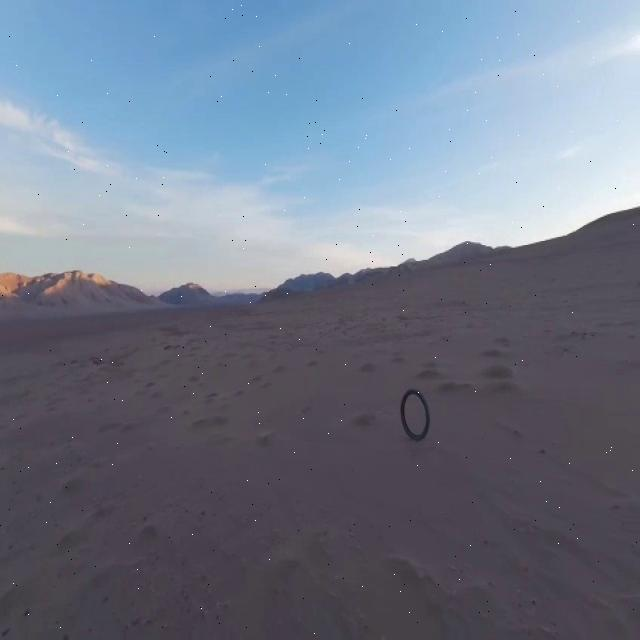Tire: (401, 388, 429, 439)
